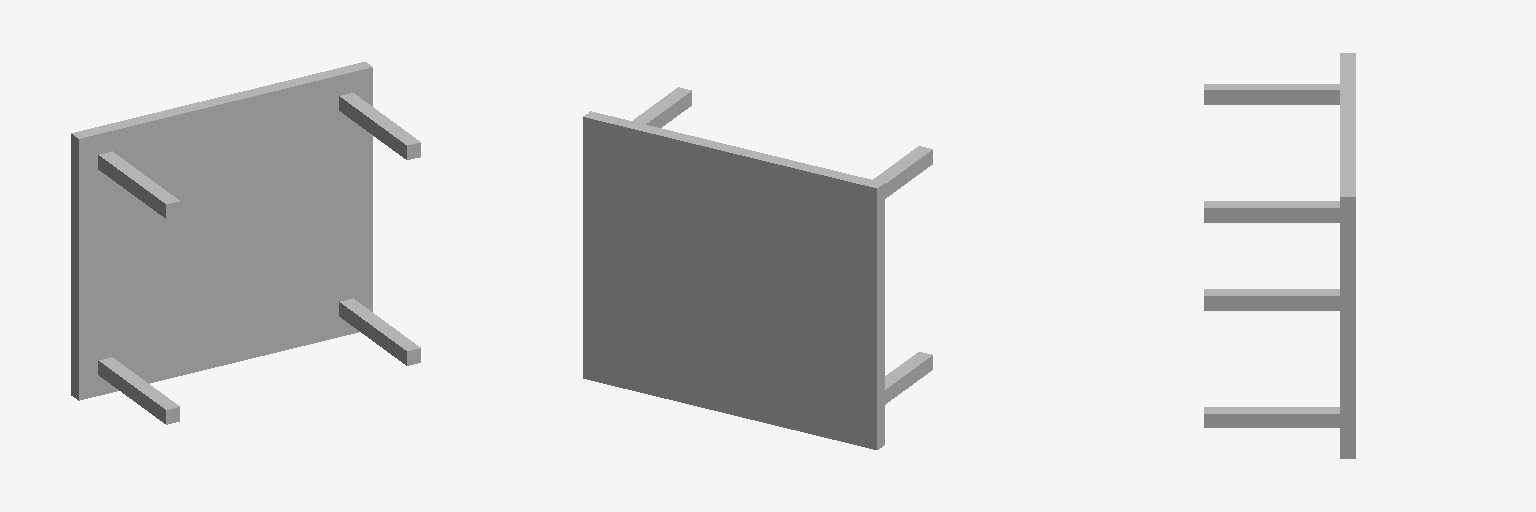
The model's file is random_table48.obj.
3 renders of one model, left to right at view 1: azimuth 30°, elevation 25°; view 2: azimuth 150°, elevation 25°; view 3: azimuth 270°, elevation 25°, orthographic.
Parts seen in each view (by area): view 1: Table_Cube.435, TableLeg1_Cube.437, TableLeg0_Cube.436, TableLeg2_Cube.438, TableLeg3_Cube.439; view 2: Table_Cube.435, TableLeg1_Cube.437, TableLeg3_Cube.439, TableLeg0_Cube.436; view 3: Table_Cube.435, TableLeg0_Cube.436, TableLeg3_Cube.439, TableLeg1_Cube.437, TableLeg2_Cube.438.
Boxes of the visible parts, x1=… form: Table_Cube.435: x1=71, y1=62, x2=372, y2=400; TableLeg1_Cube.437: x1=98, y1=151, x2=179, y2=218; TableLeg0_Cube.436: x1=339, y1=93, x2=420, y2=159; TableLeg2_Cube.438: x1=339, y1=298, x2=420, y2=365; TableLeg3_Cube.439: x1=98, y1=357, x2=179, y2=424; Table_Cube.435: x1=583, y1=111, x2=884, y2=449; TableLeg1_Cube.437: x1=873, y1=146, x2=932, y2=198; TableLeg3_Cube.439: x1=885, y1=352, x2=932, y2=404; TableLeg0_Cube.436: x1=633, y1=87, x2=691, y2=127; Table_Cube.435: x1=1340, y1=53, x2=1355, y2=458; TableLeg0_Cube.436: x1=1204, y1=201, x2=1339, y2=222; TableLeg3_Cube.439: x1=1204, y1=289, x2=1339, y2=310; TableLeg1_Cube.437: x1=1204, y1=84, x2=1339, y2=104; TableLeg2_Cube.438: x1=1204, y1=407, x2=1339, y2=427.
Bounding box in the file's own units: 9.32 × 7.92 × 4.14.